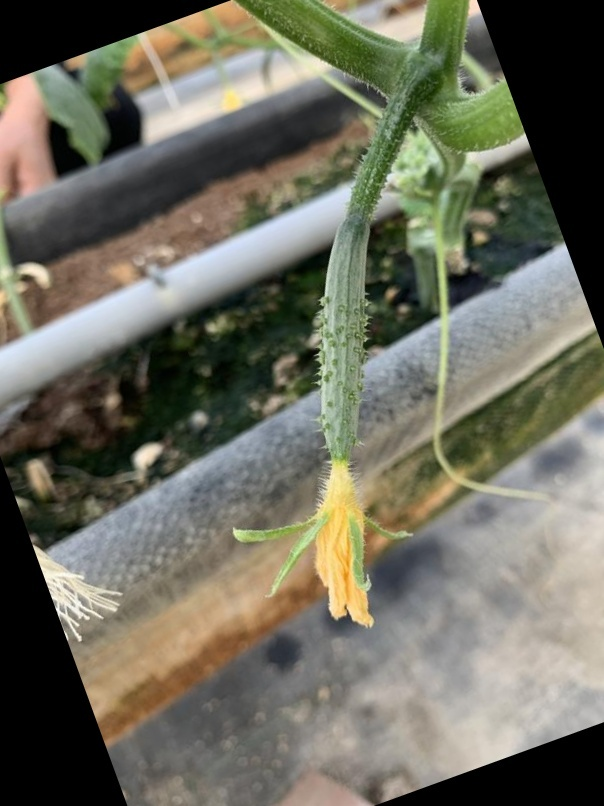bear: (248, 206, 431, 637)
